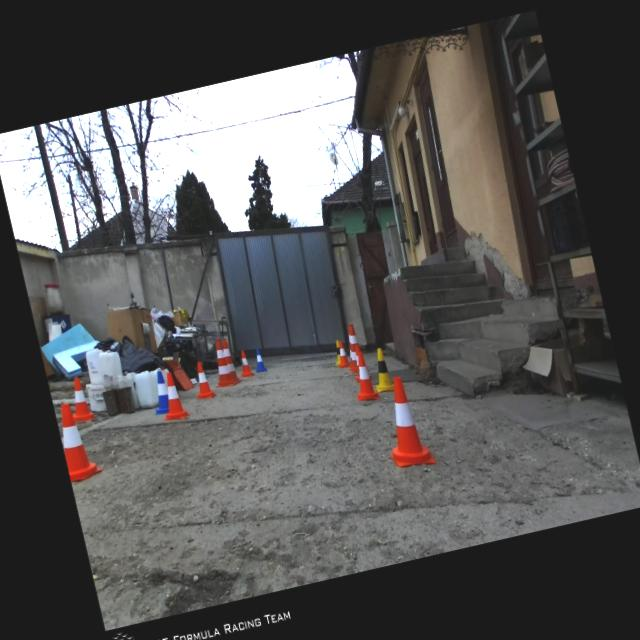blue_cone: (146, 370, 172, 416), (251, 346, 267, 373)
large_orange_cone: (206, 337, 237, 389), (341, 321, 368, 372), (220, 336, 240, 383)
orange_cone: (372, 371, 436, 472), (52, 397, 104, 482), (153, 369, 190, 423), (347, 348, 379, 402), (64, 374, 94, 422), (188, 358, 216, 401), (347, 342, 372, 382), (236, 348, 253, 377), (334, 338, 349, 368)
yellow_cone: (366, 346, 394, 394), (331, 339, 344, 366)
